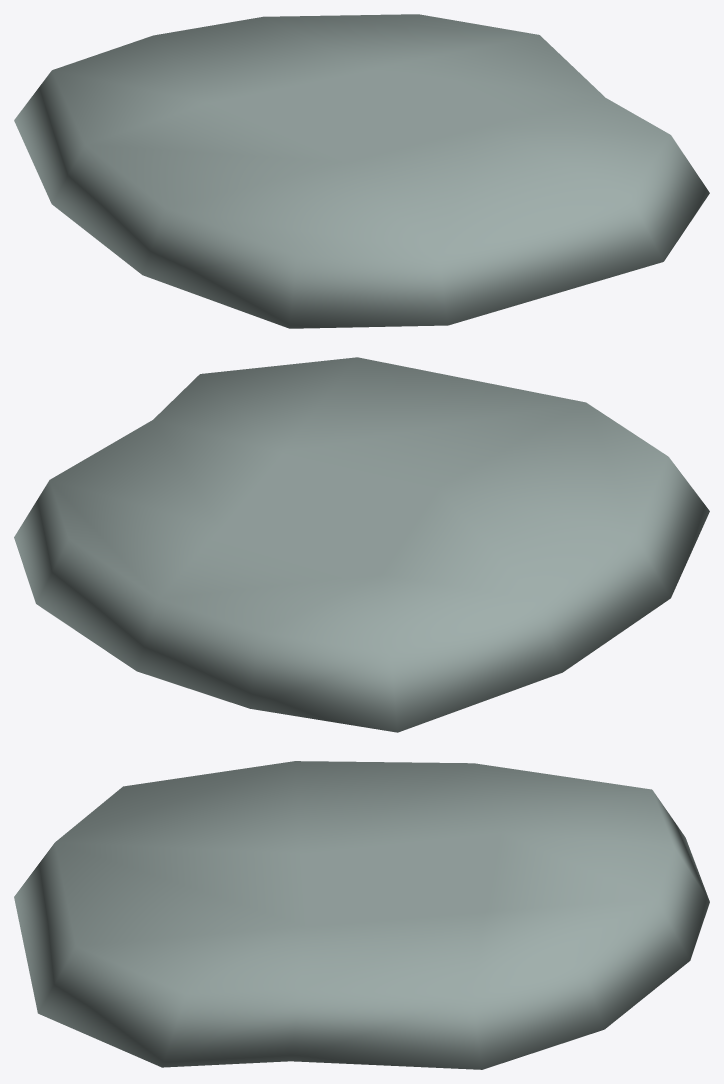
Rendered from desert path4.fbx.
3 renders of one model, top to bottom at view 1: azimuth 30°, elevation 25°; view 2: azimuth 150°, elevation 25°; view 3: azimuth 270°, elevation 25°, orthographic. The views are drawn at different scales.
Visible parts, largest first — view 1: desert path4; view 2: desert path4; view 3: desert path4.
Part boxes in pixels (x1=…): desert path4: x1=14, y1=14, x2=709, y2=328; desert path4: x1=14, y1=357, x2=709, y2=732; desert path4: x1=14, y1=761, x2=709, y2=1069.
Bounding box in the file's own units: 79.43 × 8.32 × 88.38.
